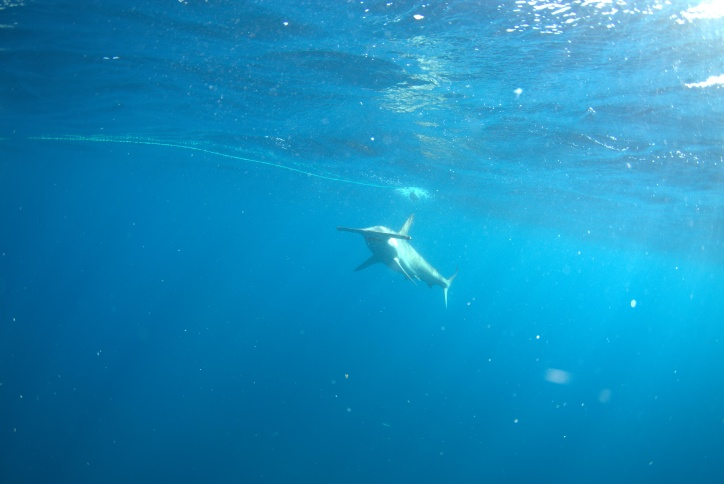Hammer: (289, 177, 481, 342)
